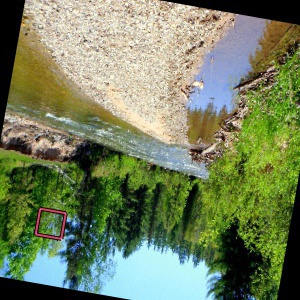square: (32, 205, 70, 244)
